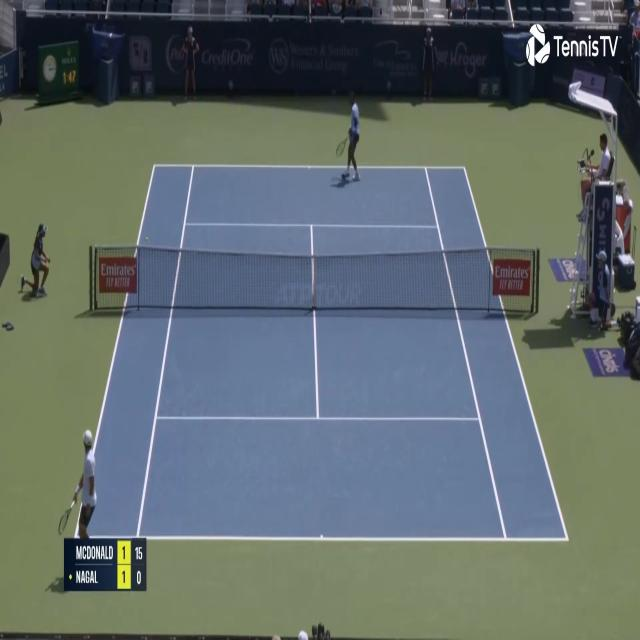tennis-player: (58, 425, 102, 559), (336, 85, 363, 184)
